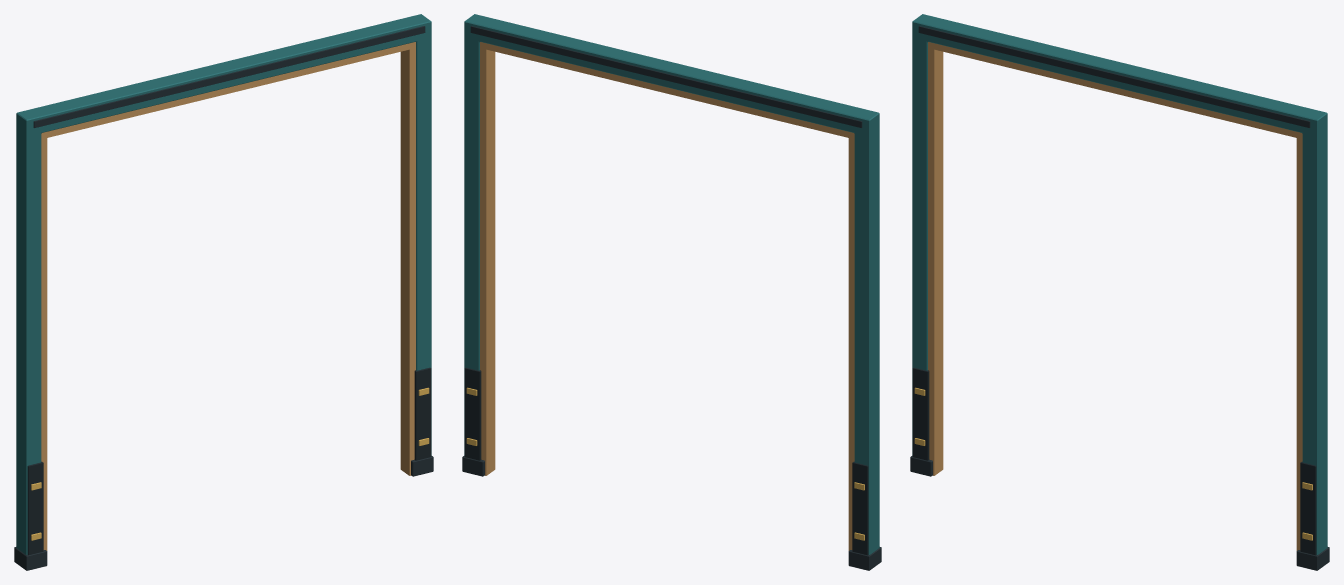
Rendered from dock-module.glb.
The picture shows the model from 3 angles, left to right: view 1: azimuth 30°, elevation 25°; view 2: azimuth 150°, elevation 25°; view 3: azimuth 330°, elevation 25°; orthographic projection.
Parts seen in each view (by area): view 1: dock-module__batch_04, dock-module__batch_03, dock-module__batch_01, dock-module__batch_00; view 2: dock-module__batch_04, dock-module__batch_03, dock-module__batch_01, dock-module__batch_00; view 3: dock-module__batch_04, dock-module__batch_03, dock-module__batch_01, dock-module__batch_00.
Part boxes in pixels (x1,y1,x2,y2): dock-module__batch_04: (16, 14, 431, 554); dock-module__batch_03: (41, 42, 415, 550); dock-module__batch_01: (14, 26, 433, 570); dock-module__batch_00: (27, 367, 431, 555); dock-module__batch_04: (464, 14, 879, 554); dock-module__batch_03: (480, 42, 854, 550); dock-module__batch_01: (462, 26, 881, 570); dock-module__batch_00: (464, 367, 868, 555); dock-module__batch_04: (912, 14, 1327, 554); dock-module__batch_03: (928, 42, 1302, 550); dock-module__batch_01: (910, 26, 1329, 570); dock-module__batch_00: (912, 367, 1316, 555).
Bounding box in the file's own units: 4.5 × 4.75 × 0.25.
